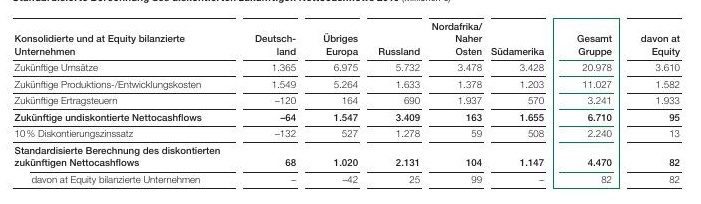table: (0, 0, 701, 204)
